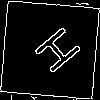H: (25, 25, 84, 82)
